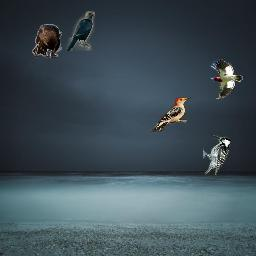Crow: (66, 11, 95, 51), (32, 24, 62, 58)
Woodpecker: (151, 97, 191, 132), (210, 59, 243, 99), (203, 135, 231, 175)
